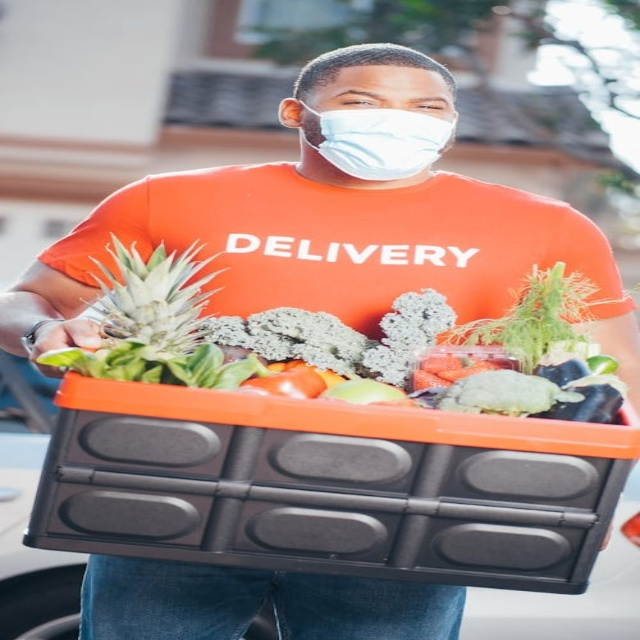Mascara: (300, 101, 455, 179)
Sin_gafas: (323, 85, 454, 116)
Sin_guantes: (0, 290, 114, 370)
